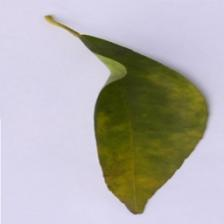greening: (88, 76, 218, 218)
